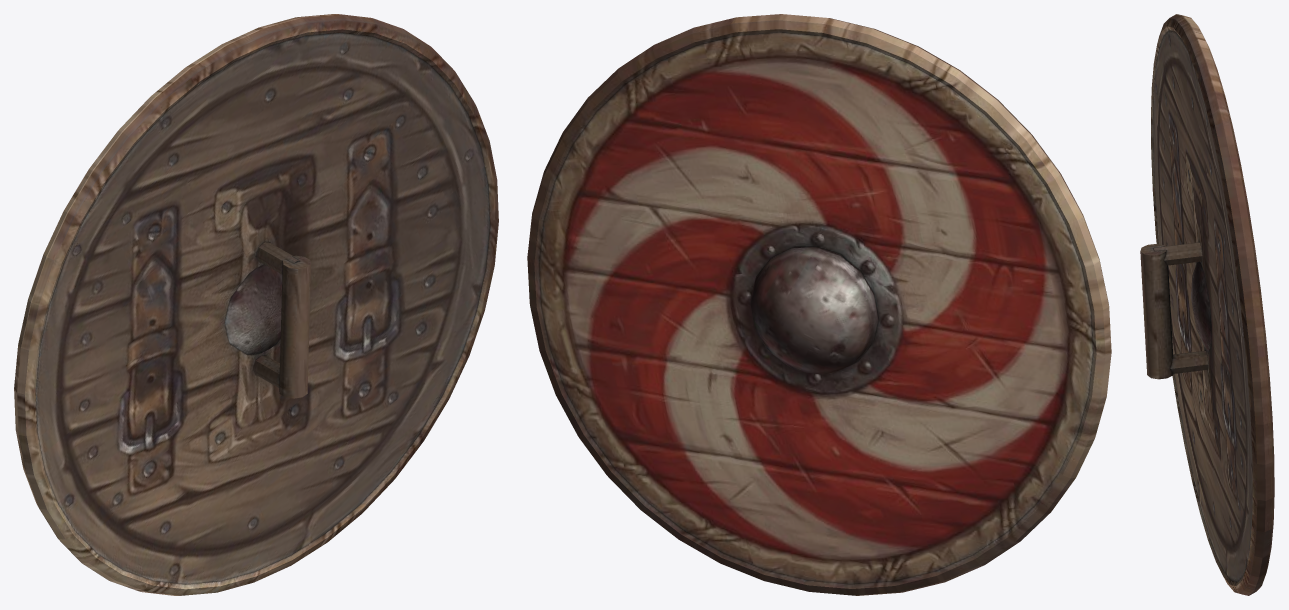
File: shield_round.glb
The picture shows the model from 3 angles, left to right: view 1: azimuth 30°, elevation 25°; view 2: azimuth 150°, elevation 25°; view 3: azimuth 270°, elevation 25°; orthographic projection. The views are drawn at different scales.
Parts seen in each view (by area): view 1: shield_boss; view 2: shield_boss; view 3: shield_boss.
Part boxes in pixels (left/top/right/bottom): shield_boss: left=14, top=14, right=498, bottom=595; shield_boss: left=527, top=14, right=1111, bottom=595; shield_boss: left=1140, top=14, right=1274, bottom=595.
Bounding box in the file's own units: 0.6756 × 0.6851 × 0.157.
1 material, 1 textured.
